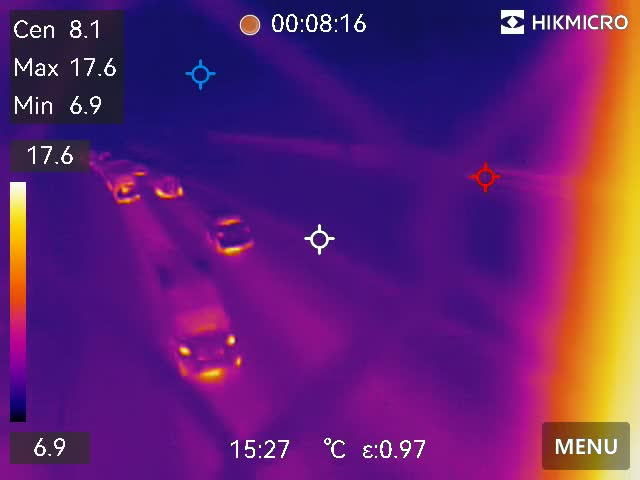vehicle: (154, 276, 242, 383), (204, 205, 253, 258), (150, 171, 189, 205), (112, 173, 145, 207)
